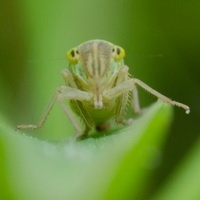insect: (16, 40, 189, 137)
